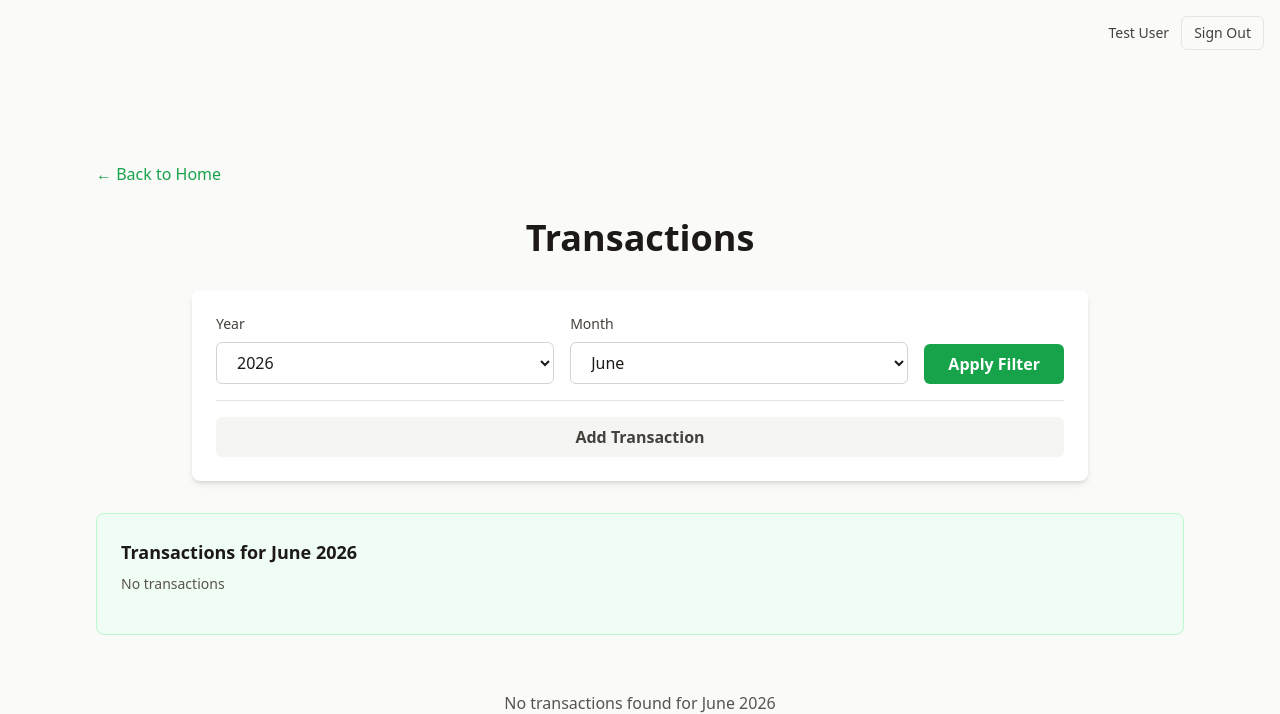
Test case: Transactions Page › with transactions data › with mixed source transactions › displays source-based summary breakdown with Custom last
Select "2024" in the dropdown with id "year". click: (385,363)
box: [216, 342, 554, 384]
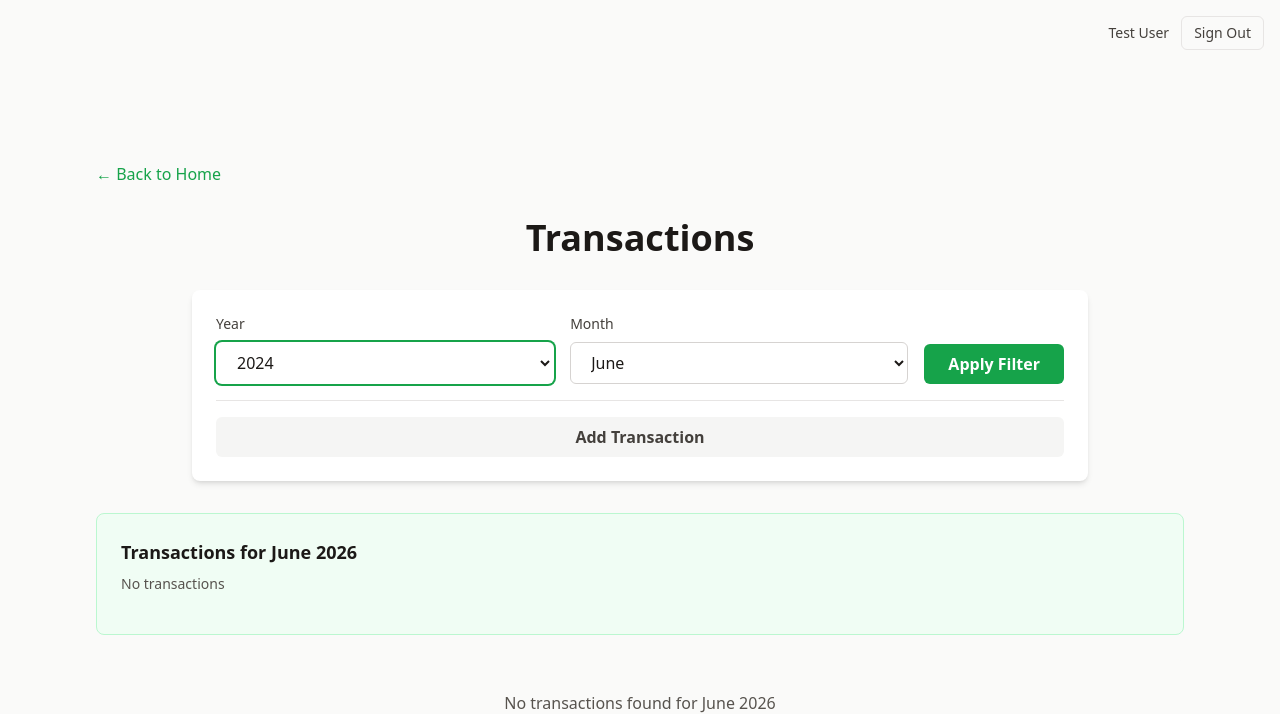
Select "June" in the dropdown with id "month". click: (739,363)
box: [570, 342, 908, 384]
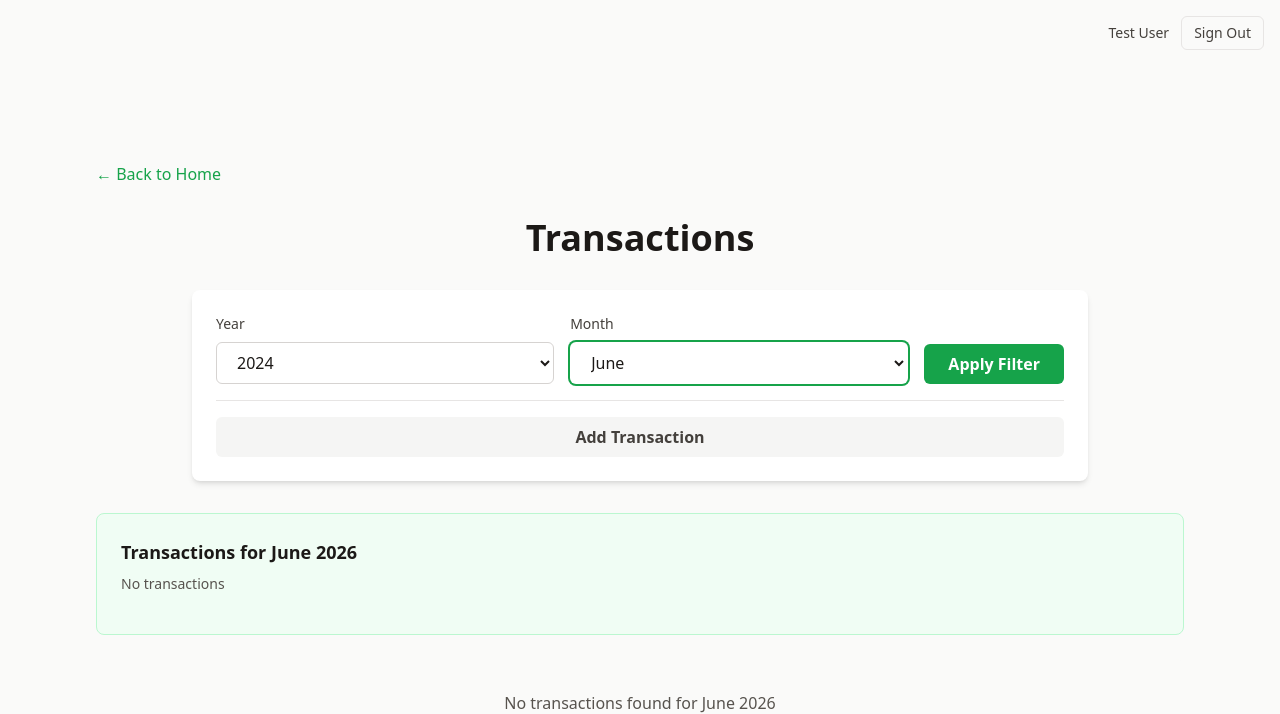
Click the button "Apply Filter". click: (994,364)
box: [924, 344, 1064, 384]
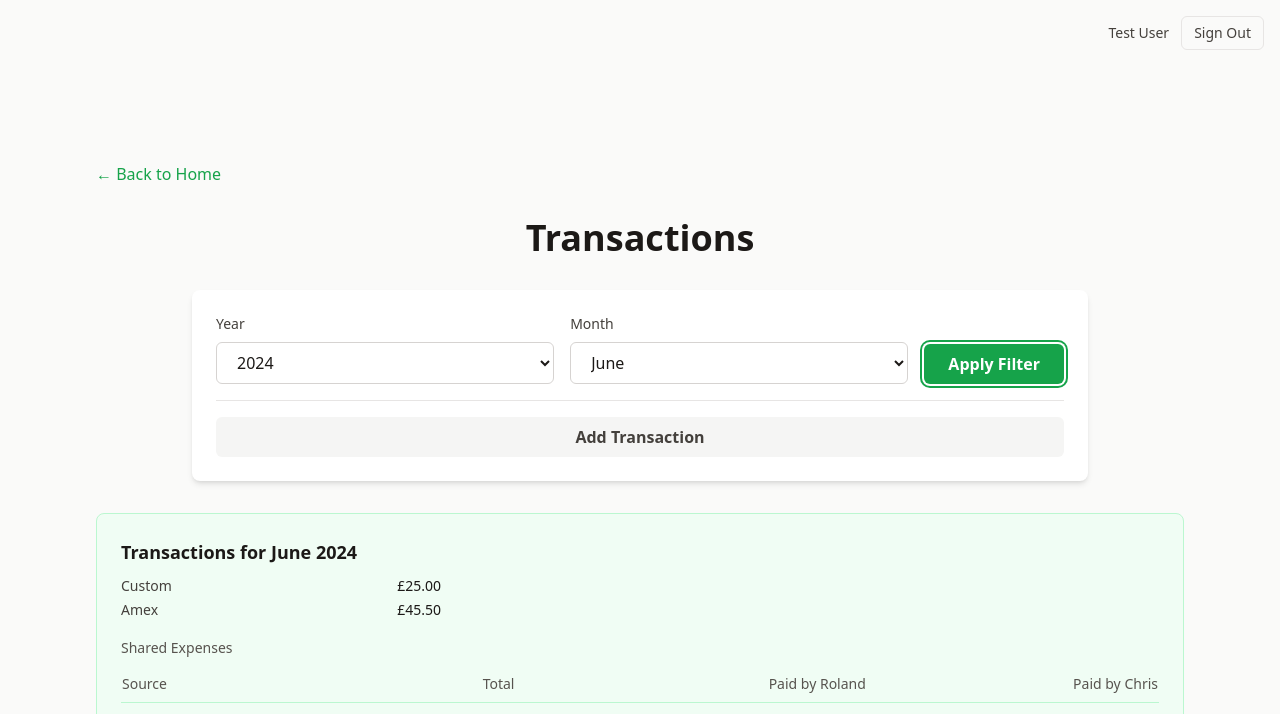
Result: the number of list items is 2 at [121, 574, 441, 598]; [121, 598, 441, 622]
Result: the text "Custom" is shown at [121, 576, 172, 596]
Result: the text "Amex" is shown at [121, 600, 158, 620]
